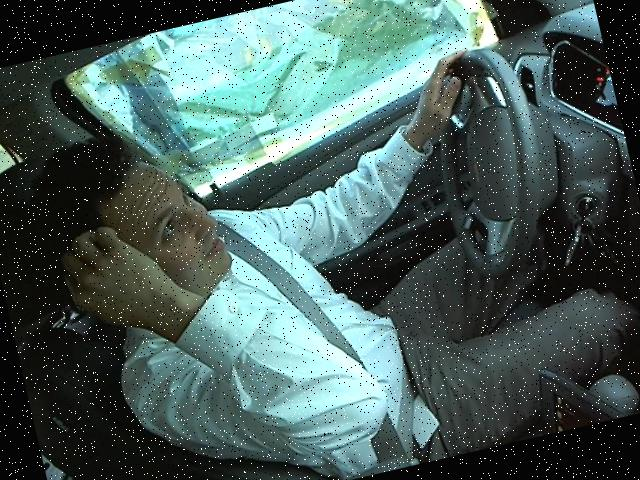c6 - Hair and Makeup: (11, 10, 597, 452)
